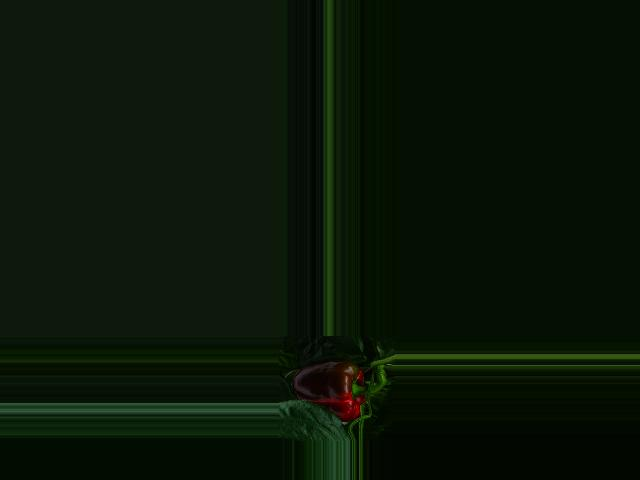bell_pepper: (287, 351, 374, 424)
